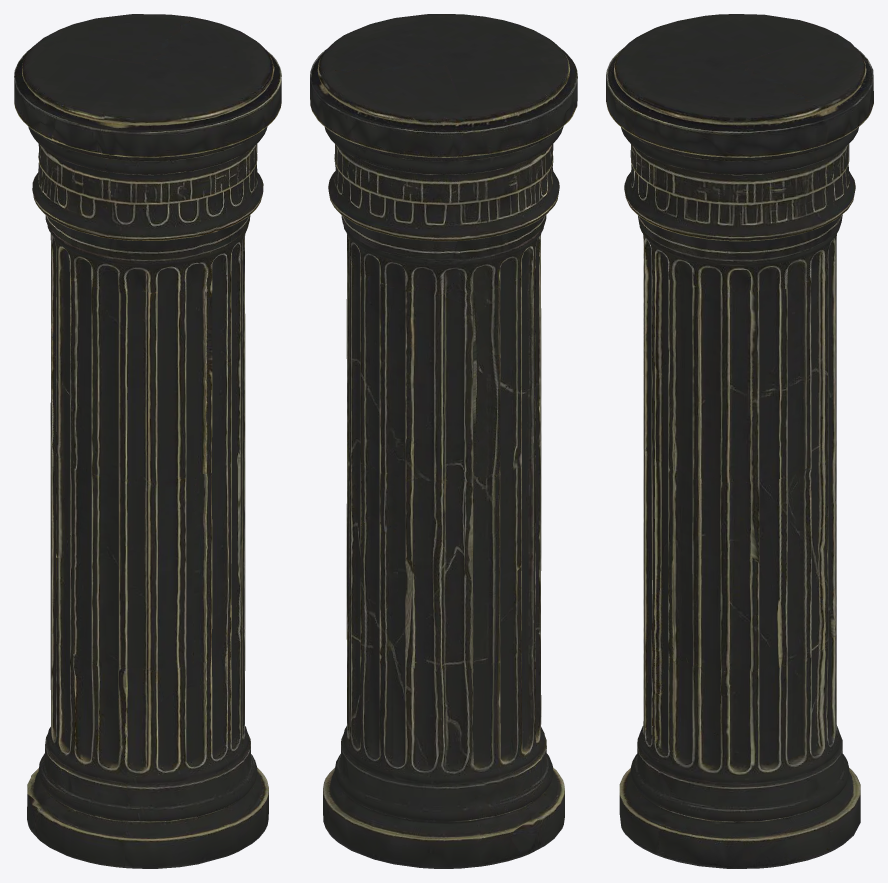
File: column.glb
The picture shows the model from 3 angles, left to right: view 1: azimuth 30°, elevation 25°; view 2: azimuth 150°, elevation 25°; view 3: azimuth 270°, elevation 25°; orthographic projection.
Size of the model in its own units: 0.6122 by 1.9 by 0.6118.
1 material, 1 textured.
